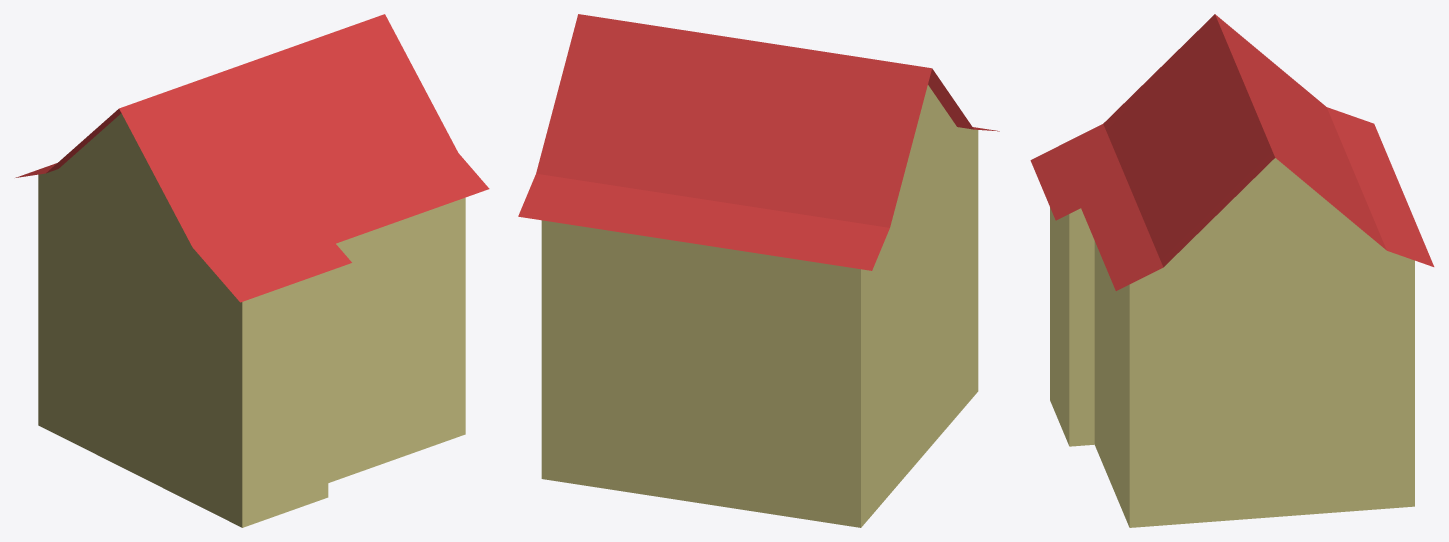
3 views of the same model, side by side, from view 1: azimuth 30°, elevation 25°; view 2: azimuth 150°, elevation 25°; view 3: azimuth 270°, elevation 25° (orthographic). The views are drawn at different scales.
Bounding box in the file's own units: 11.77 × 11.99 × 12.
